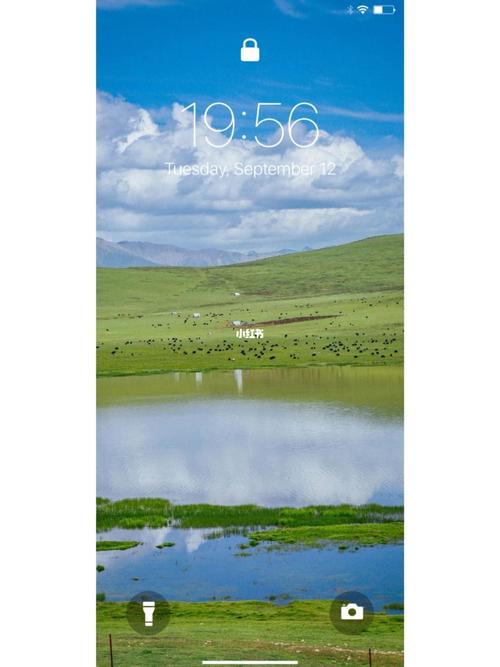sky_cloud: (79, 26, 416, 245)
